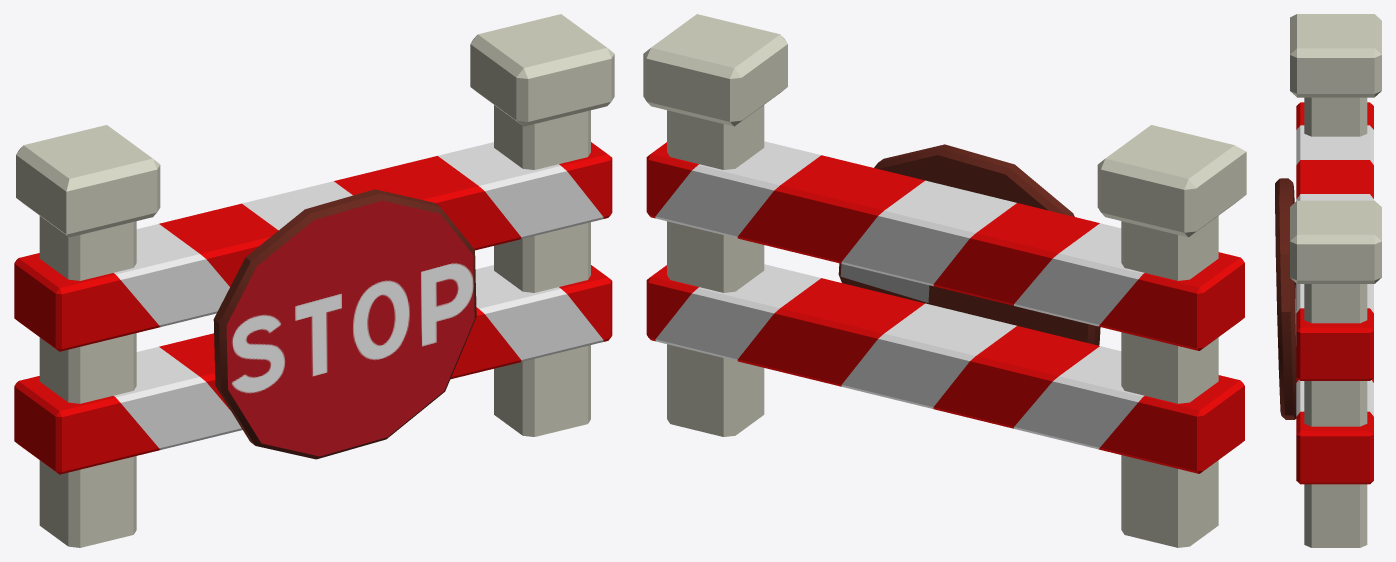
The model's file is Stop.fbx.
3 renders of one model, left to right at view 1: azimuth 30°, elevation 25°; view 2: azimuth 150°, elevation 25°; view 3: azimuth 270°, elevation 25°, orthographic. The views are drawn at different scales.
Visible parts, largest first — view 1: pCube3, pCube1, çubuk, pCube4, çubuk1; view 2: pCube4, pCube1, çubuk, çubuk1, pCube3; view 3: çubuk1, pCube1, çubuk, pCube4, pCube3.
Part boxes in pixels (left/top/right/bottom): pCube3: left=213, top=189, right=476, bottom=459; pCube1: left=14, top=142, right=612, bottom=351; çubuk: left=16, top=125, right=160, bottom=547; pCube4: left=14, top=265, right=612, bottom=474; çubuk1: left=470, top=14, right=614, bottom=436; pCube4: left=646, top=264, right=1244, bottom=473; pCube1: left=646, top=141, right=1244, bottom=350; çubuk: left=1097, top=125, right=1246, bottom=547; çubuk1: left=643, top=14, right=787, bottom=436; pCube3: left=838, top=144, right=1100, bottom=345; çubuk1: left=1290, top=200, right=1381, bottom=547; pCube1: left=1296, top=102, right=1373, bottom=380; çubuk: left=1290, top=14, right=1381, bottom=136; pCube4: left=1296, top=377, right=1373, bottom=484; pCube3: left=1275, top=178, right=1296, bottom=419.
Size of the model in its own units: 4.89 by 3.15 by 0.9643.
Materials: 7 (1 with a texture image).
